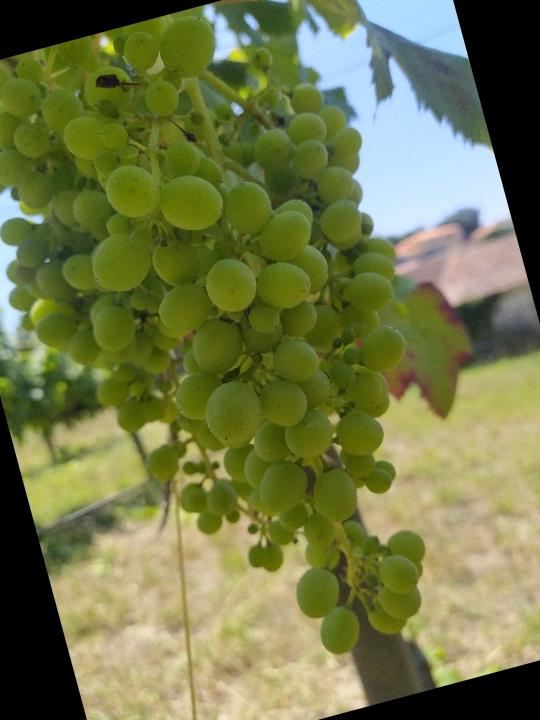grape: (0, 0, 496, 716)
